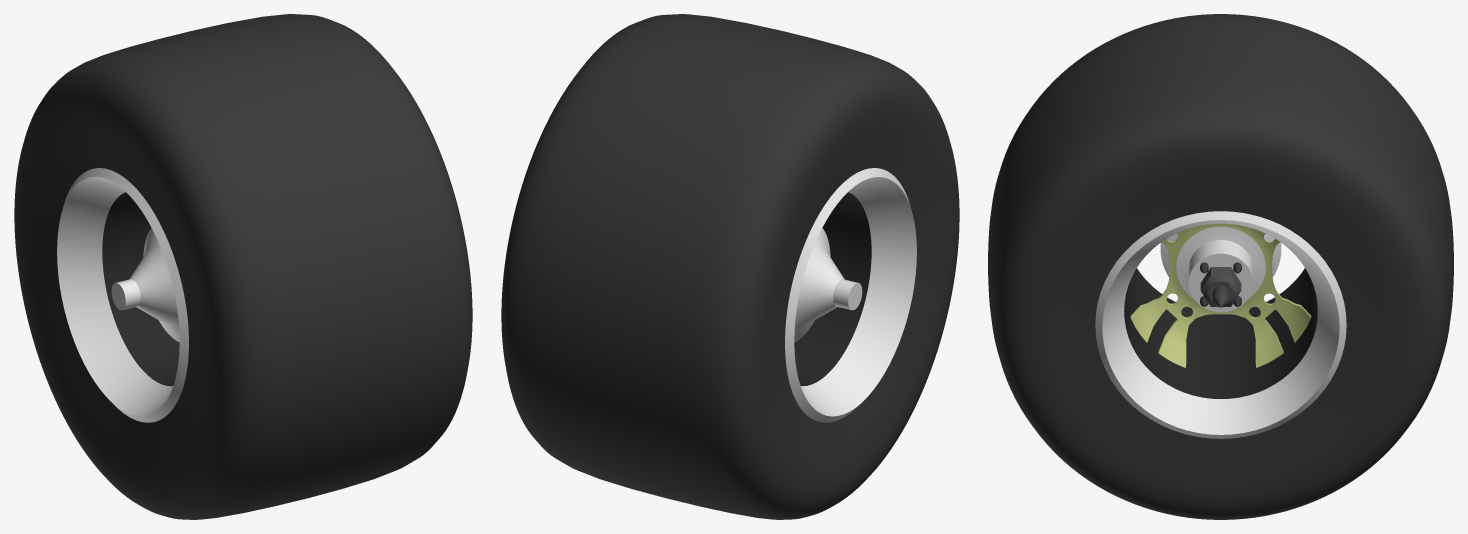
Rendered from slickfix.fbx.
3 views of the same model, side by side, from view 1: azimuth 30°, elevation 25°; view 2: azimuth 150°, elevation 25°; view 3: azimuth 270°, elevation 25° (orthographic). The views are drawn at different scales.
Visible parts, largest first — view 1: Cylinder; view 2: Cylinder; view 3: Cylinder.
Boxes of the visible parts, x1=… form: Cylinder: x1=14, y1=14, x2=472, y2=519; Cylinder: x1=501, y1=14, x2=959, y2=519; Cylinder: x1=988, y1=14, x2=1453, y2=519.
Bounding box in the file's own units: 209 × 346 × 346.
